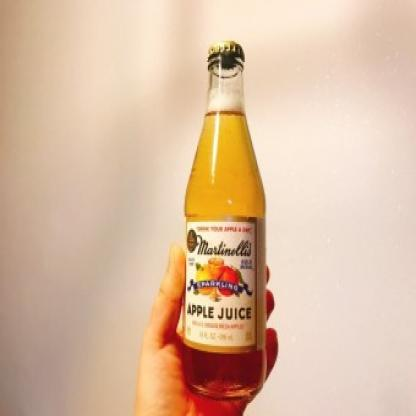Can: (172, 37, 274, 402)
